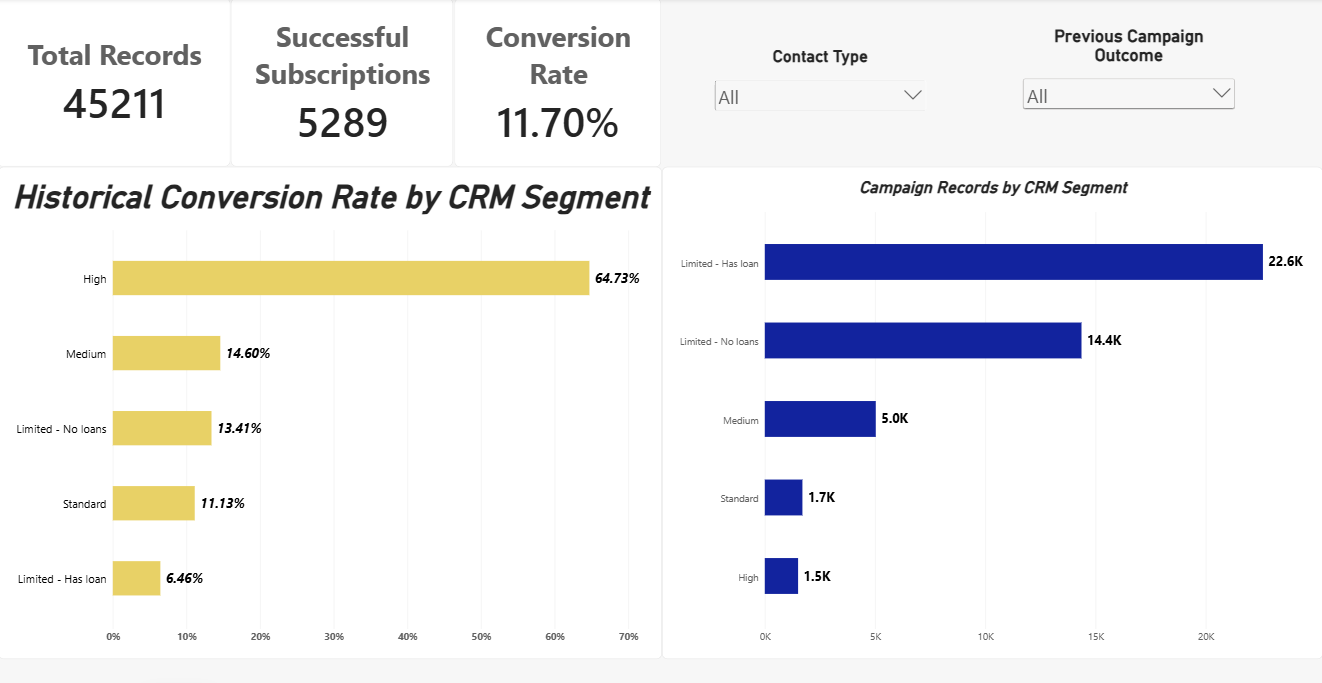

The page's visual inventory and layout, read from the dashboard file:
{"tool":"powerbi","page":{"name":"Page 1","canvas":[1920,1080],"ordinal":0},"visuals":[{"type":"cardVisual","fields":{"Data":["crm_priority_segments_v2.Total Records"]},"box":[0,0,338.1,244.5],"z":0},{"type":"cardVisual","fields":{"Data":["crm_priority_segments_v2.Successful Subscriptions"]},"box":[338.1,0,322.9,244.5],"z":1000},{"type":"cardVisual","fields":{"Data":["crm_priority_segments_v2.Conversion Rate"]},"box":[663,0,299.9,245],"z":2000},{"type":"clusteredBarChart","title":"Historical Conversion Rate by CRM Segment","fields":{"Category":["crm_priority_segments_v2.lead_segment_v2"],"Y":["crm_priority_segments_v2.Conversion Rate"]},"box":[1.9,244.5,961,712.6],"z":3000},{"type":"clusteredBarChart","title":"Campaign Records by CRM Segment","fields":{"Category":["crm_priority_segments_v2.lead_segment_v2"],"Y":["crm_priority_segments_v2.Total Records"]},"box":[962.9,244.5,957.1,712.6],"z":3001},{"type":"slicer","title":"Contact Type","fields":{"Values":["crm_priority_segments_v2.contact"]},"box":[1033.6,70.7,317.1,227.3],"z":3002},{"type":"slicer","title":"Previous Campaign Outcome","fields":{"Values":["crm_priority_segments_v2.poutcome"]},"box":[1480.6,40.1,317.1,244.5],"z":3003}]}

Visuals, with their boxes on the page's 1920x1080 design canvas (x1, y1, x2, y2). These are canvas units, not pixel positions in the 1322x683 screenshot, which may show the page scaled, cropped or inside an application window:
cardVisual - crm_priority_segments_v2.Total Records: pyautogui.locateOnScreen(0, 0, 338, 244)
cardVisual - crm_priority_segments_v2.Successful Subscriptions: pyautogui.locateOnScreen(338, 0, 661, 244)
cardVisual - crm_priority_segments_v2.Conversion Rate: pyautogui.locateOnScreen(663, 0, 963, 245)
"Historical Conversion Rate by CRM Segment" clusteredBarChart: pyautogui.locateOnScreen(2, 244, 963, 957)
"Campaign Records by CRM Segment" clusteredBarChart: pyautogui.locateOnScreen(963, 244, 1920, 957)
"Contact Type" slicer: pyautogui.locateOnScreen(1034, 71, 1351, 298)
"Previous Campaign Outcome" slicer: pyautogui.locateOnScreen(1481, 40, 1798, 285)
